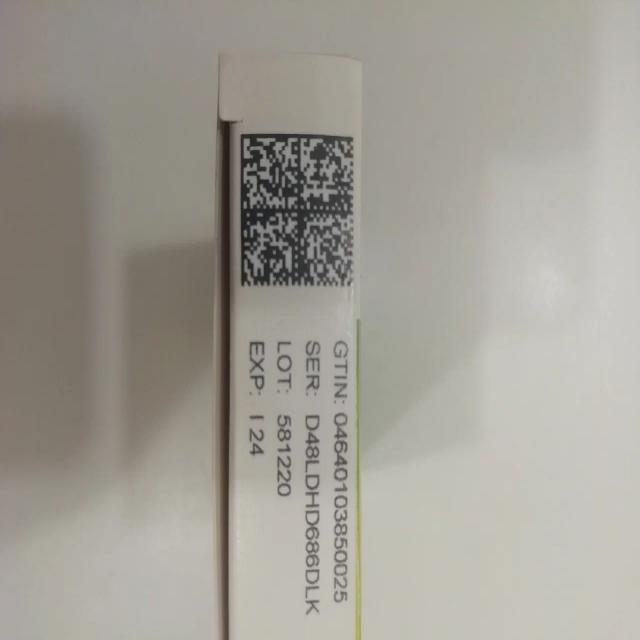datamatrix: (241, 133, 358, 290)
